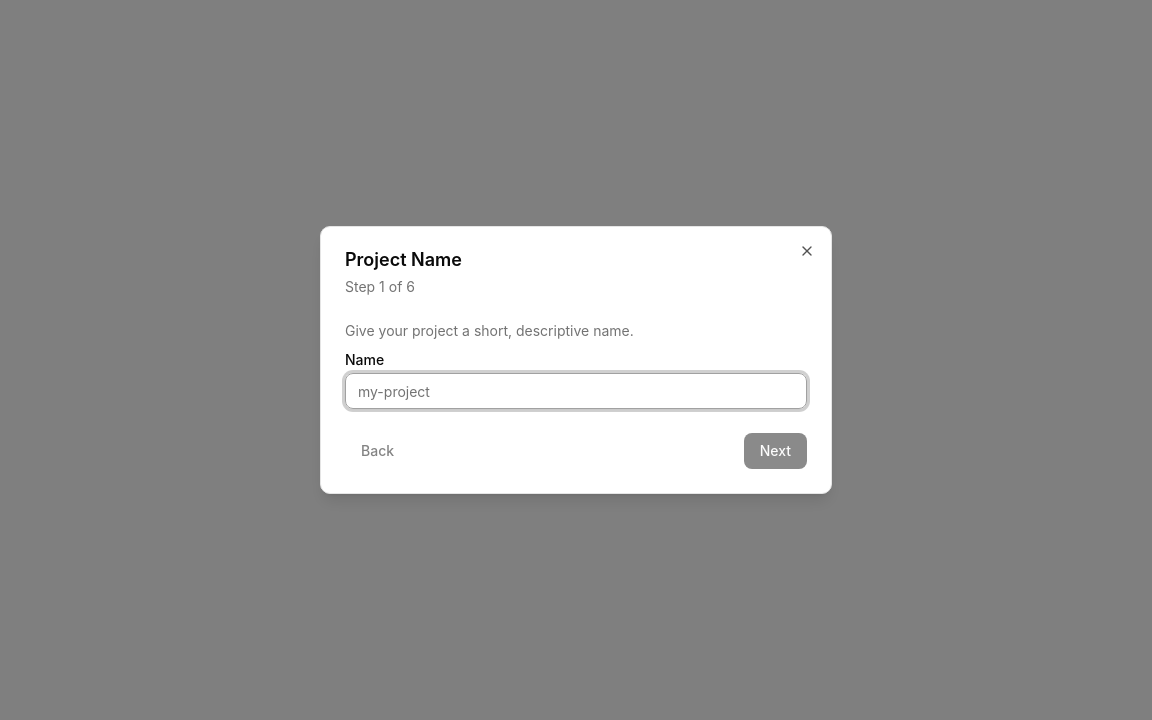
Test case: NewProjectWizard › advances to step 2 (folder) when Next is clicked
Type "my-app" into the field labelled "Name" at (576, 391), box [345,373,807,409]
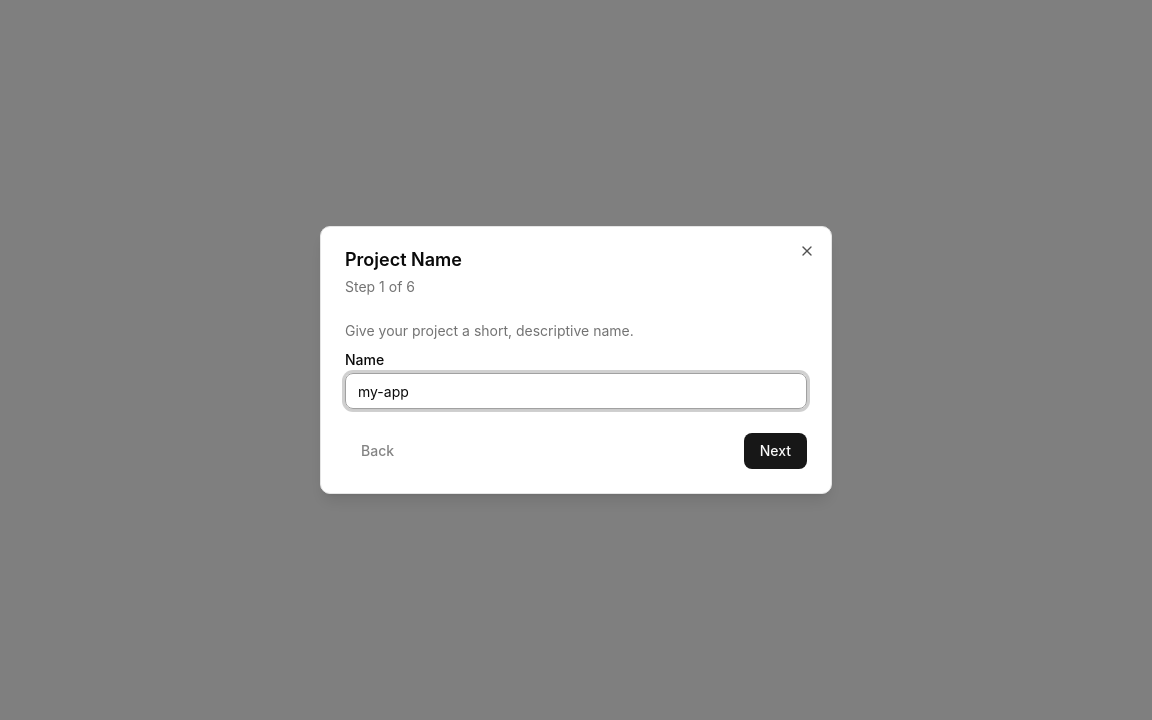
Click the button "Next" at (775, 451), box [744,433,807,469]
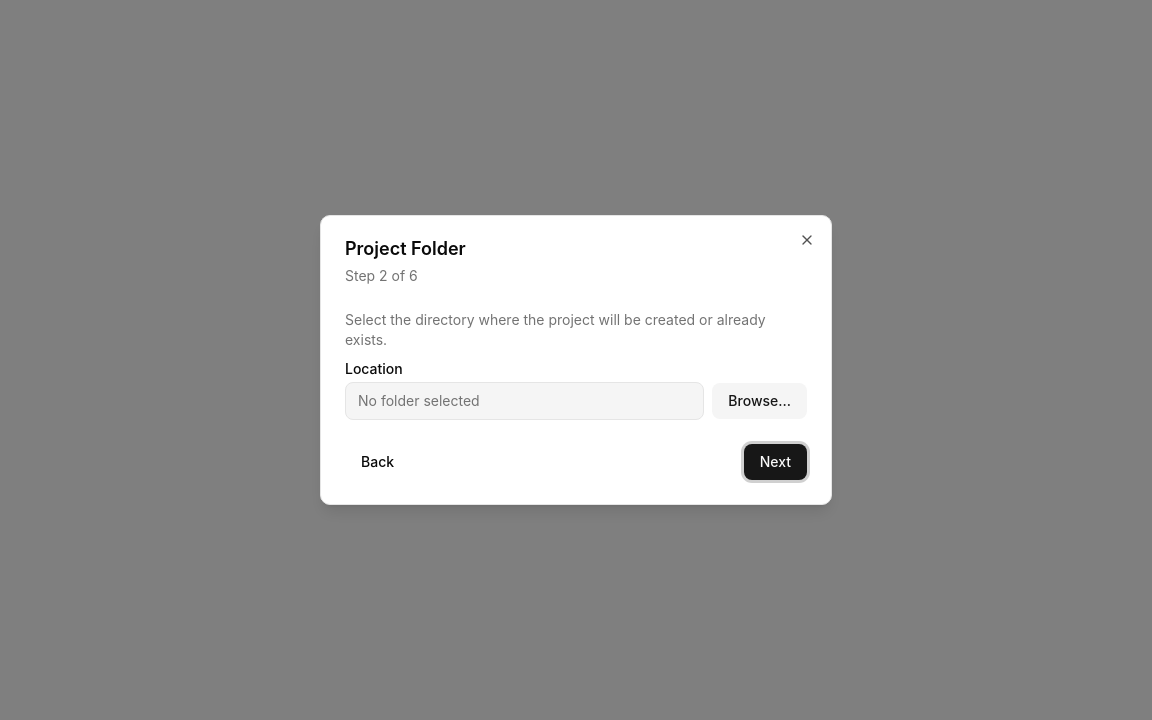
Result: the heading "Project Folder" is shown at [345,238,466,259]
Result: the text "Step 2 of 6" is shown at [345,267,418,284]
